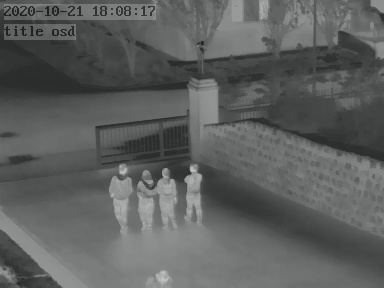person: (105, 159, 132, 234), (184, 162, 205, 225), (158, 165, 178, 230), (140, 164, 158, 229)
